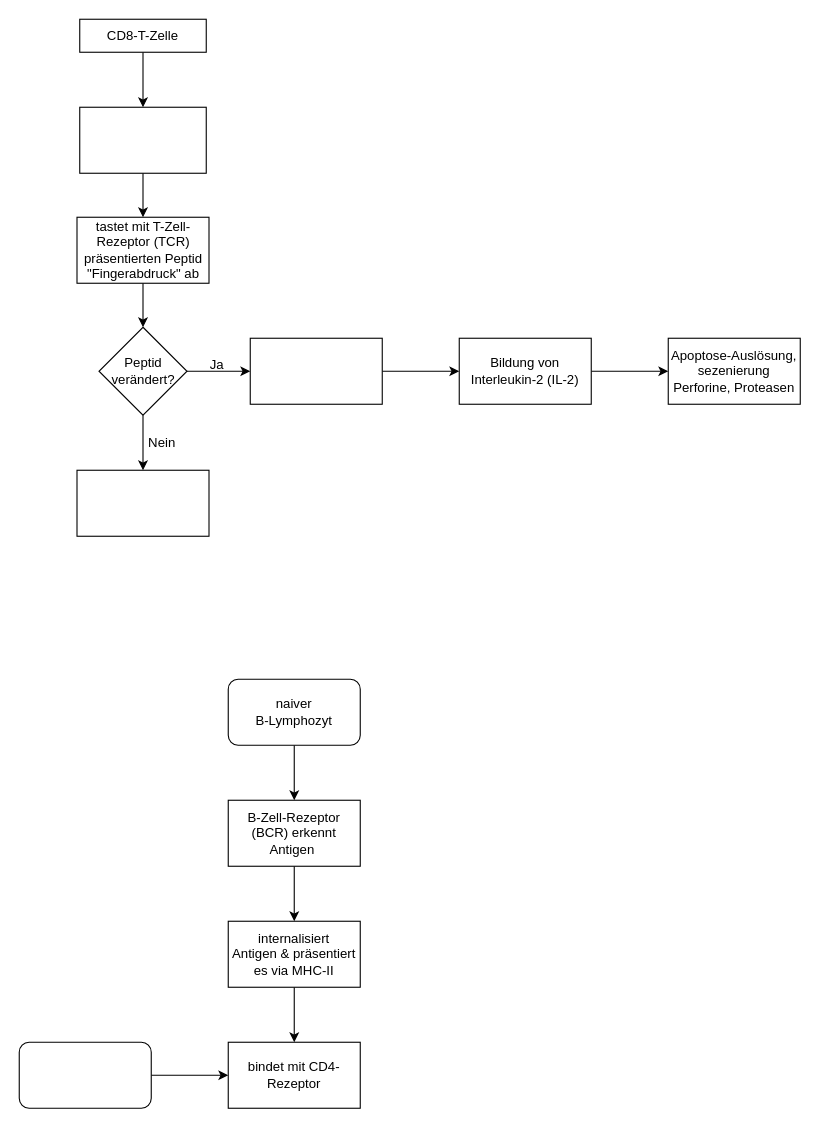
Image size: 820x1128. Some labels were removed from this diagram. The shapes that lost their labels are listed below. From the top down, each one's centre as x and y in pixels, then its label:
[142,139]: bindet mit CD8-Rezeptor an MHC-I an Zelle
[315,370]: Aktivierung zu Effektorzelle (T-Killer-Zelle)
[142,502]: CD8-T-Zelle wandert weiter
[84,1074]: CD4+-T-Zelle
